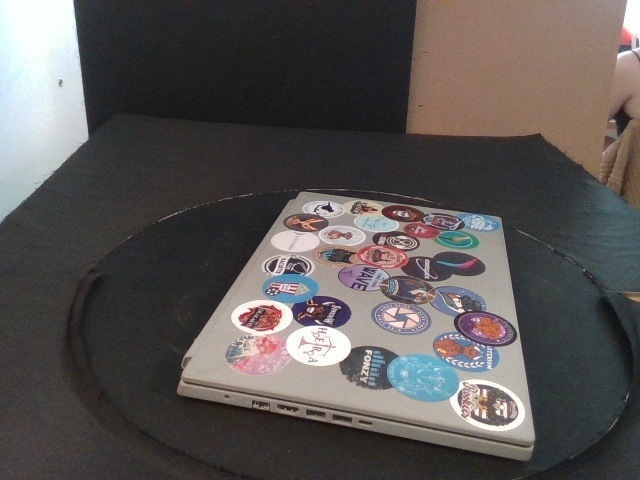laptop: (175, 191, 536, 462)
